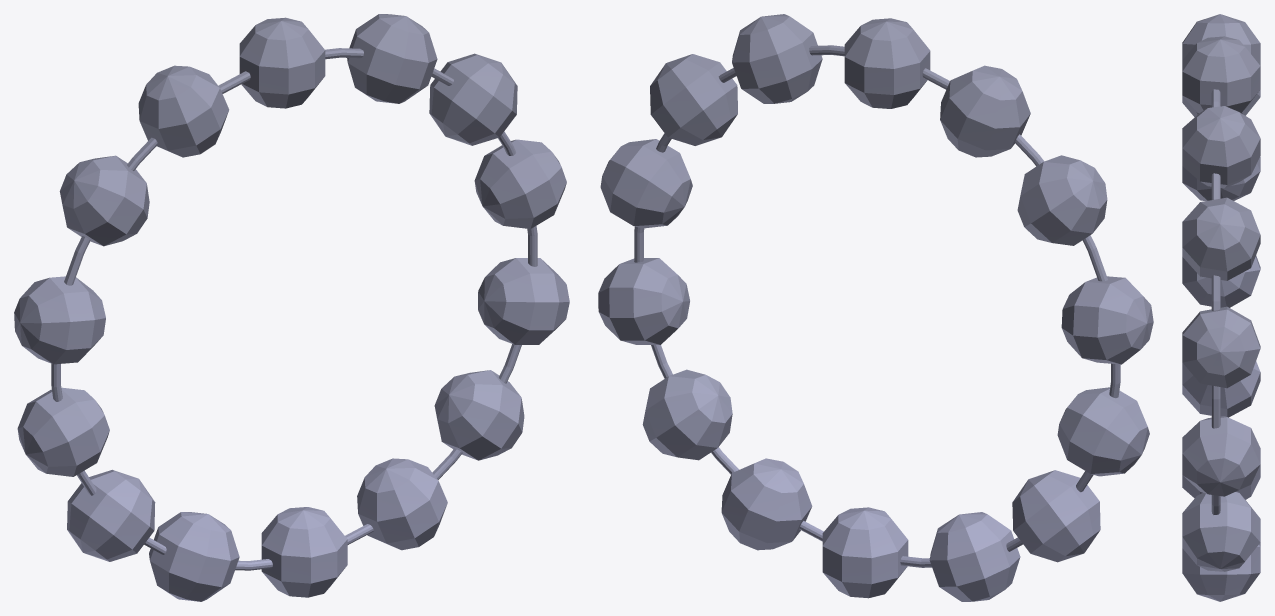
File: Neckless.fbx
The picture shows the model from 3 angles, left to right: view 1: azimuth 30°, elevation 25°; view 2: azimuth 150°, elevation 25°; view 3: azimuth 270°, elevation 25°; orthographic projection. The views are drawn at different scales.
Parts seen in each view (by area): view 1: Neckless; view 2: Neckless; view 3: Neckless.
Boxes of the visible parts, x1=… form: Neckless: x1=14, y1=14, x2=569, y2=601; Neckless: x1=598, y1=14, x2=1153, y2=601; Neckless: x1=1182, y1=14, x2=1260, y2=601.
Bounding box in the file's own units: 13.62 × 13.89 × 1.86.
